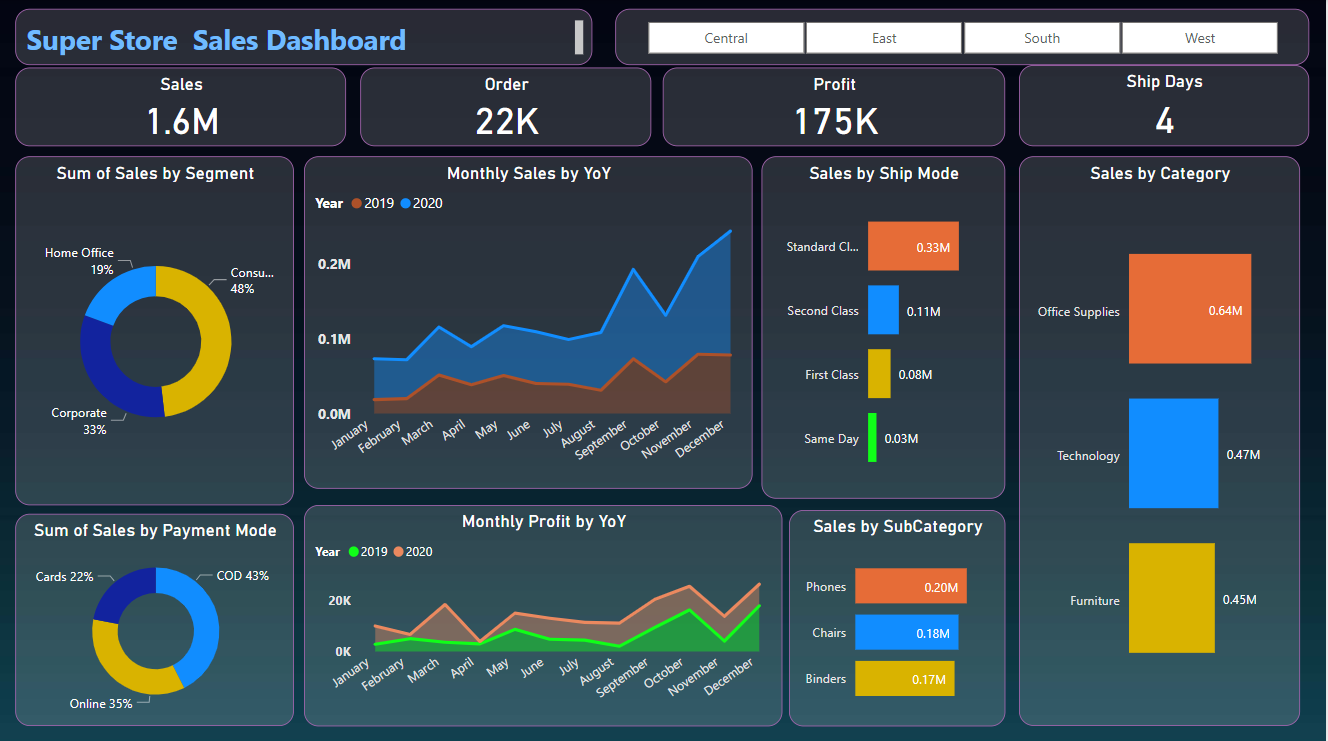

Layout of this report page (visuals, bound fields, positions):
{"tool":"powerbi","page":{"name":"Page 1","canvas":[1280,720],"ordinal":0},"visuals":[{"type":"clusteredBarChart","title":"Sales by Category","fields":{"Category":["SuperStore_Sales_Dataset.Category"],"Y":["Sum(SuperStore_Sales_Dataset.Sales)"]},"box":[984.1,382.3,279.8,318.4],"z":0},{"type":"clusteredBarChart","title":"Sales by SubCategory","fields":{"Y":["Sum(SuperStore_Sales_Dataset.Sales)"],"Category":["SuperStore_Sales_Dataset.Sub-Category"]},"box":[762.5,492.5,208.8,208.8],"z":1000},{"type":"clusteredBarChart","title":"Sales by Ship Mode","fields":{"Category":["SuperStore_Sales_Dataset.Ship Mode"],"Y":["Sum(SuperStore_Sales_Dataset.Sales)"]},"box":[735.7,150.8,235.2,330.5],"z":2000},{"type":"stackedAreaChart","title":"Monthly Profit by YoY","fields":{"Category":["SuperStore_Sales_Dataset.Order Date.Variation.Date Hierarchy.Month","SuperStore_Sales_Dataset.Order Date.Variation.Date Hierarchy.Day"],"Series":["SuperStore_Sales_Dataset.Order Date.Variation.Date Hierarchy.Year"],"Y":["Sum(SuperStore_Sales_Dataset.Profit)"]},"box":[294.3,487.2,461.9,213.5],"z":3000},{"type":"stackedAreaChart","title":"Monthly Sales by YoY","fields":{"Category":["SuperStore_Sales_Dataset.Order Date.Variation.Date Hierarchy.Month","SuperStore_Sales_Dataset.Order Date.Variation.Date Hierarchy.Day"],"Series":["SuperStore_Sales_Dataset.Order Date.Variation.Date Hierarchy.Year"],"Y":["Sum(SuperStore_Sales_Dataset.Sales)"]},"box":[294.3,150.8,433,320.8],"z":4000},{"type":"map","fields":{"Category":["SuperStore_Sales_Dataset.State"],"Size":["Sum(SuperStore_Sales_Dataset.Sales)"]},"box":[984.1,150.8,279.8,209.8],"z":5000},{"type":"donutChart","fields":{"Category":["SuperStore_Sales_Dataset.Segment"],"Y":["Sum(SuperStore_Sales_Dataset.Sales)"]},"box":[25.3,150.8,259.3,336.5],"z":6000},{"type":"donutChart","fields":{"Category":["SuperStore_Sales_Dataset.Payment Mode"],"Y":["Sum(SuperStore_Sales_Dataset.Sales)"]},"box":[15.7,495.7,268.9,197.8],"z":7000},{"type":"slicer","fields":{"Values":["SuperStore_Sales_Dataset.Region"]},"box":[594.6,8.4,669.3,54.3],"z":8000},{"type":"textbox","box":[25.3,8.4,547.5,54.3],"z":9000},{"type":"card","title":"Sales","fields":{"Values":["Sum(SuperStore_Sales_Dataset.Sales)"]},"box":[25.3,65.1,309.9,76],"z":10000},{"type":"card","title":"Order","fields":{"Values":["Sum(SuperStore_Sales_Dataset.Quantity)"]},"box":[348.5,65.1,281,76],"z":11000},{"type":"card","title":"Ship Days","fields":{"Values":["Avg(SuperStore_Sales_Dataset.AvgDelivery)"]},"box":[984.1,62.7,279.8,78.4],"z":12000},{"type":"card","title":"Profit","fields":{"Values":["Sum(SuperStore_Sales_Dataset.Profit)"]},"box":[640.4,65.1,330.5,76],"z":13000}]}

Visuals, with their boxes in screenshot pixels (x1, y1, x2, y2), scaled from the page's 1280x720 canvas onto the 1328x741 screenshot:
"Sales by Category" clusteredBarChart: detection(1021, 393, 1311, 721)
"Sales by SubCategory" clusteredBarChart: detection(791, 507, 1008, 722)
"Sales by Ship Mode" clusteredBarChart: detection(763, 155, 1007, 495)
"Monthly Profit by YoY" stackedAreaChart: detection(305, 501, 785, 721)
"Monthly Sales by YoY" stackedAreaChart: detection(305, 155, 755, 485)
map - SuperStore_Sales_Dataset.State x Sum(SuperStore_Sales_Dataset.Sales): detection(1021, 155, 1311, 371)
donutChart - SuperStore_Sales_Dataset.Segment x Sum(SuperStore_Sales_Dataset.Sales): detection(26, 155, 295, 502)
donutChart - SuperStore_Sales_Dataset.Payment Mode x Sum(SuperStore_Sales_Dataset.Sales): detection(16, 510, 295, 714)
slicer - SuperStore_Sales_Dataset.Region: detection(617, 9, 1311, 65)
textbox: detection(26, 9, 594, 65)
"Sales" card: detection(26, 67, 348, 145)
"Order" card: detection(362, 67, 653, 145)
"Ship Days" card: detection(1021, 65, 1311, 145)
"Profit" card: detection(664, 67, 1007, 145)
